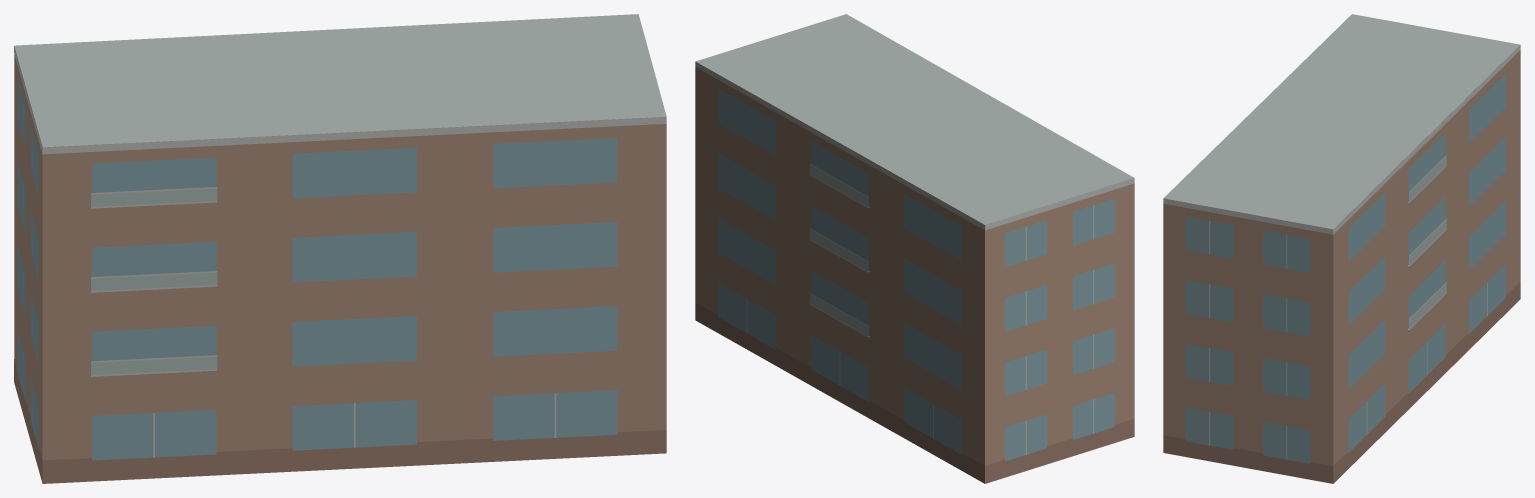
The model's file is survey-upis-32997592.glb.
3 renders of one model, left to right at view 1: azimuth 30°, elevation 25°; view 2: azimuth 150°, elevation 25°; view 3: azimuth 270°, elevation 25°, orthographic. The views are drawn at different scales.
Parts seen in each view (by area): view 1: survey-upis-32997592.tmp; view 2: survey-upis-32997592.tmp; view 3: survey-upis-32997592.tmp.
Part boxes in pixels (x1,y1,x2,y2): survey-upis-32997592.tmp: (14,14,666,483); survey-upis-32997592.tmp: (695,14,1134,483); survey-upis-32997592.tmp: (1163,14,1520,483).
Bounding box in the file's own units: 21.24 × 11.7 × 14.89.
